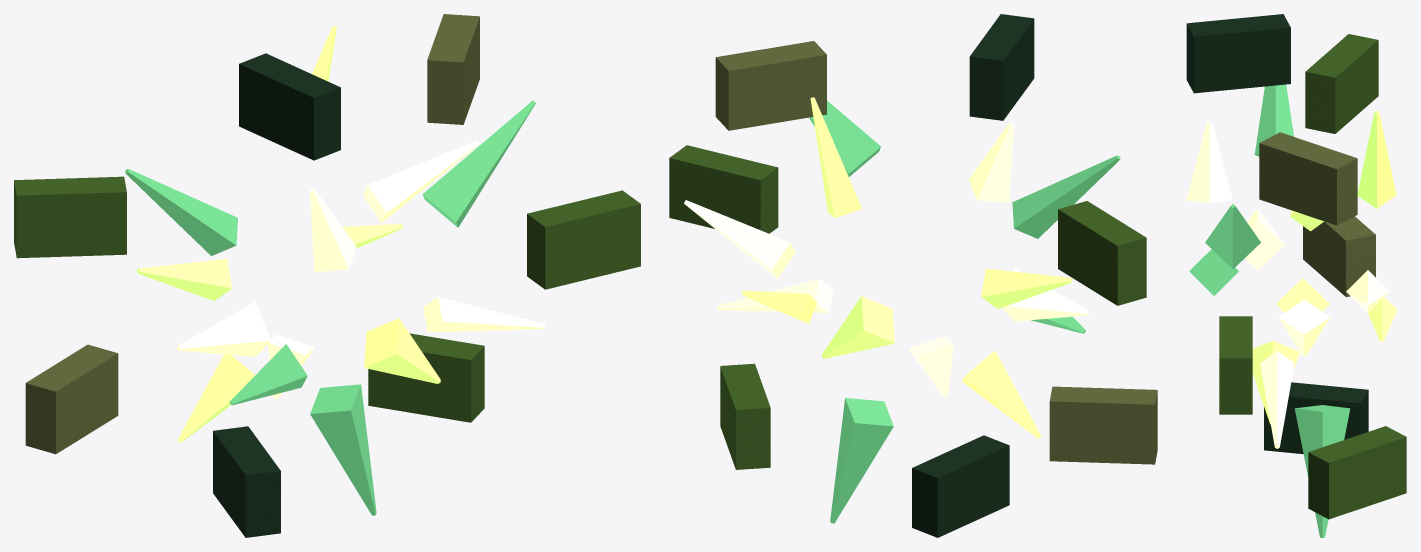
Rendered from salvage.glb.
3 renders of one model, left to right at view 1: azimuth 30°, elevation 25°; view 2: azimuth 150°, elevation 25°; view 3: azimuth 270°, elevation 25°, orthographic. The views are drawn at different scales.
Parts seen in each view (by area): view 1: Salvage Pop dimensional effect.001; view 2: Salvage Pop dimensional effect.001; view 3: Salvage Pop dimensional effect.001.
Part boxes in pixels (x1,y1,x2,y2): Salvage Pop dimensional effect.001: (14,14,640,537); Salvage Pop dimensional effect.001: (669,14,1157,537); Salvage Pop dimensional effect.001: (1186,14,1406,537).
Bounding box in the file's own units: 1.39 × 1.21 × 0.5314.
4 materials, 1 textured.
